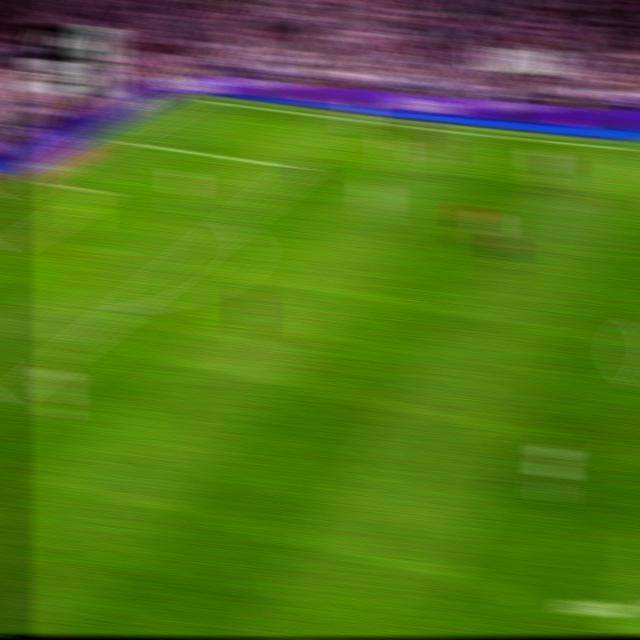bigarea_top_inner: (290, 158, 313, 175)
bigarea_top_outter: (106, 130, 131, 147)
bottom_arc_area_intersection: (112, 297, 138, 318)
corner: (183, 93, 208, 105)
smallarea_top_inner: (90, 184, 114, 199)
top_arc_area_intersection: (221, 212, 245, 231)
